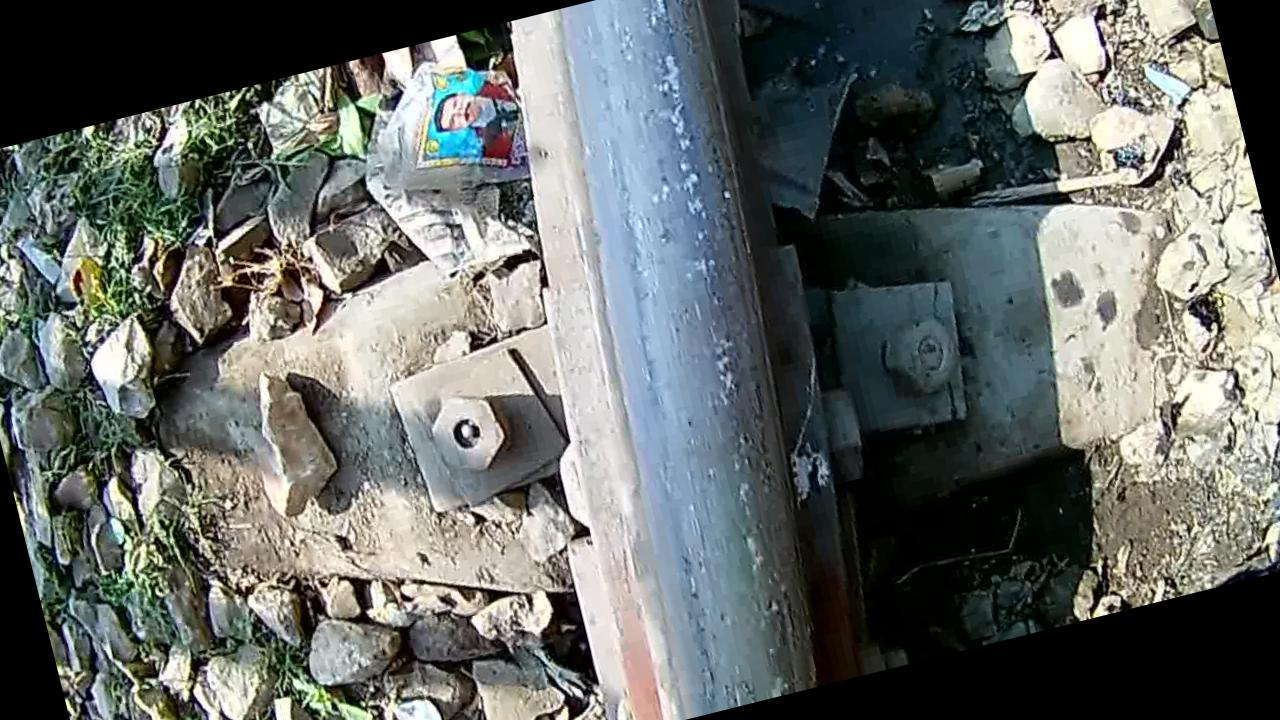clip_missing: (509, 0, 875, 720)
